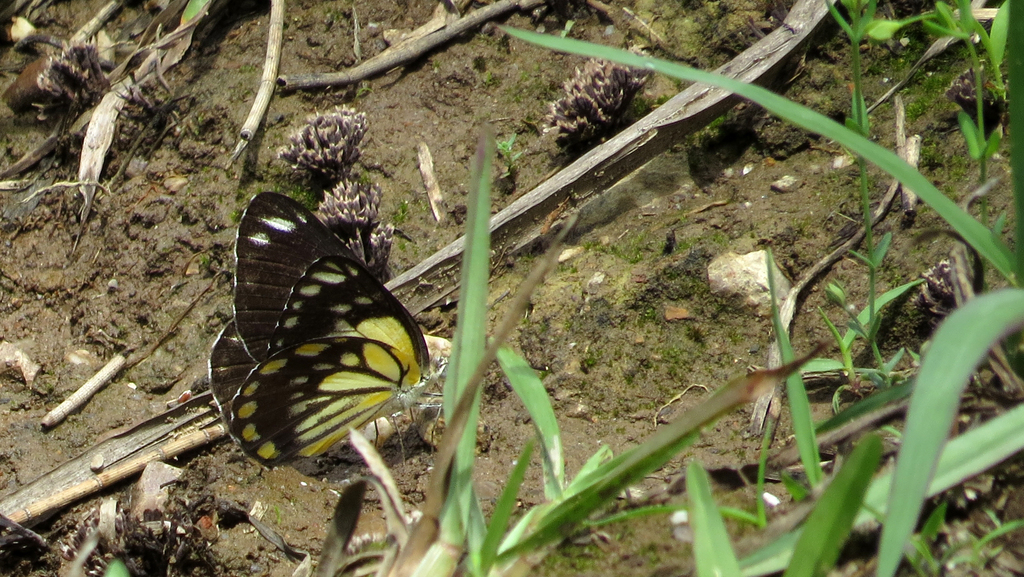Butterfly: (191, 185, 458, 481)
